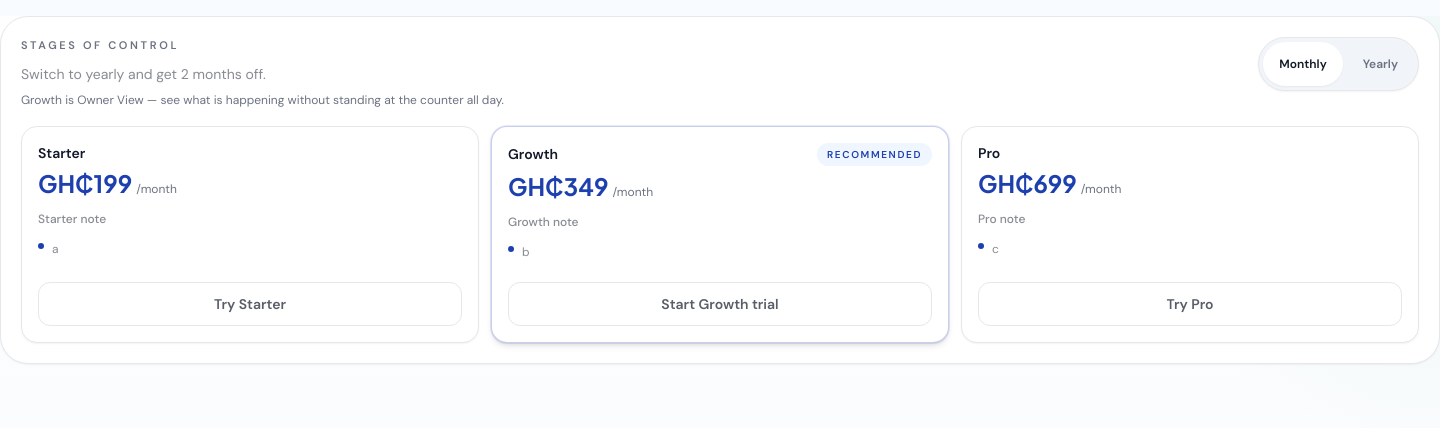
WelcomePricingPreview monthly/yearly toggle › reverts Starter, Growth and Pro together when switching back to monthly
What coordinates should you click on to do the following:
click the button "Yearly"
I would click on:
 (1380, 64)
Its box is [1347,42,1414,86].
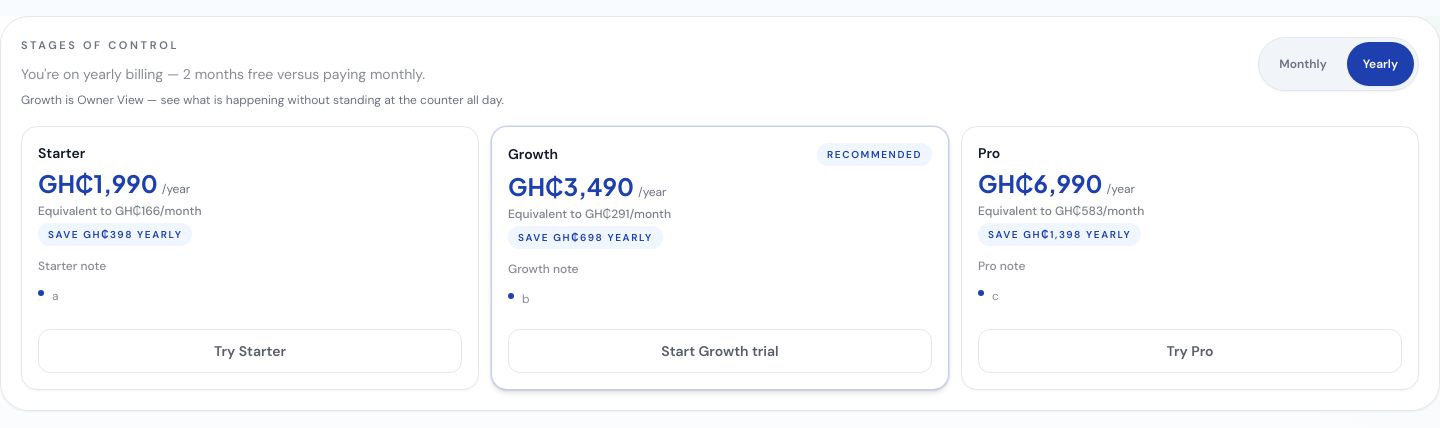
What coordinates should you click on to do the following:
click the button "Monthly"
I would click on:
 (1303, 64)
Its box is [1263,42,1343,86].
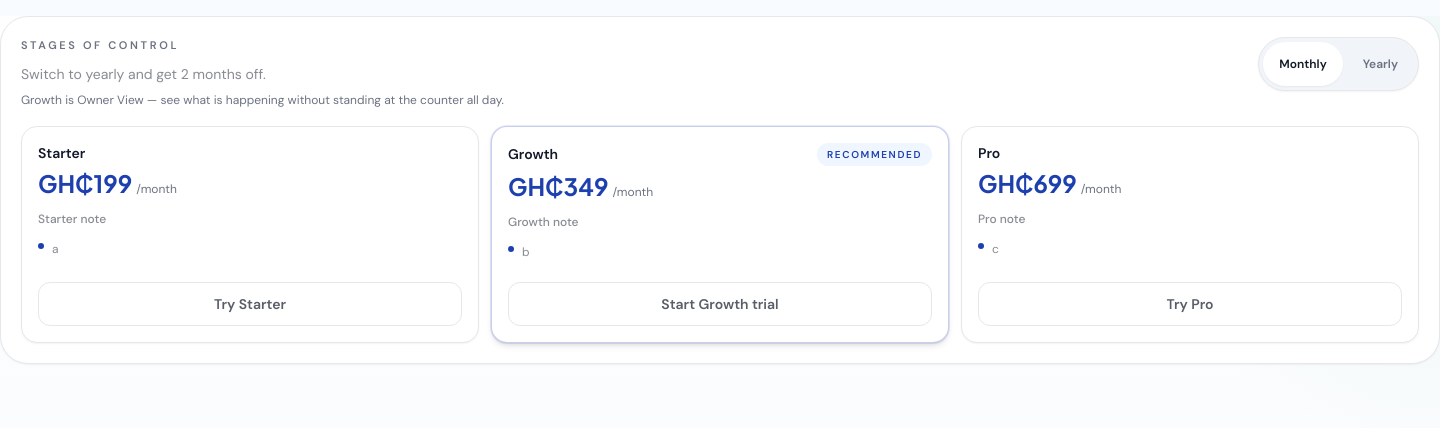
Expected: the text with test id "plan-price-starter" reads "GH₵199", [38,168,132,198]
Expected: the text with test id "plan-price-growth" reads "GH₵349", [508,170,608,200]
Expected: the text with test id "plan-price-pro" reads "GH₵699", [978,168,1077,198]
